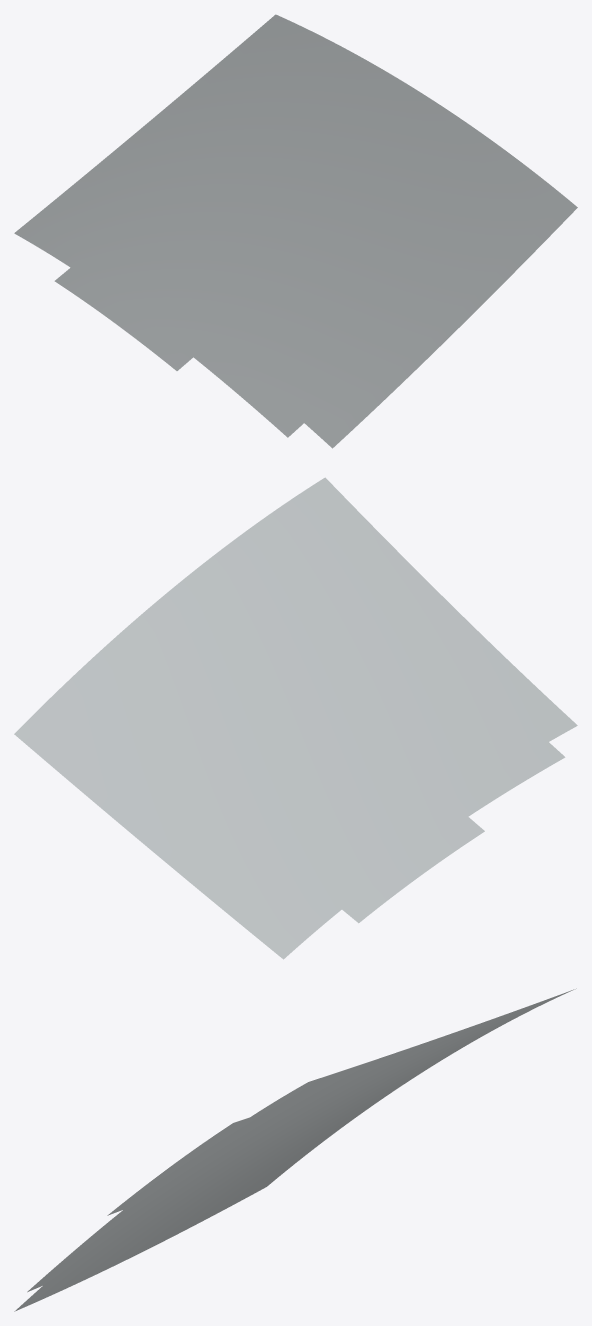
Rendered from alpine-5-6.glb.
3 views of the same model, one above another, from view 1: azimuth 30°, elevation 25°; view 2: azimuth 150°, elevation 25°; view 3: azimuth 330°, elevation 25° (orthographic). The views are drawn at different scales.
Visible parts, largest first — view 1: alpine-5-6; view 2: alpine-5-6; view 3: alpine-5-6.
Part boxes in pixels (x1,y1,x2,y2): alpine-5-6: (14, 14, 577, 448); alpine-5-6: (14, 477, 577, 959); alpine-5-6: (14, 988, 576, 1311).
Bounding box in the file's own units: 136 × 89.4 × 256.
1 material, 1 textured.
